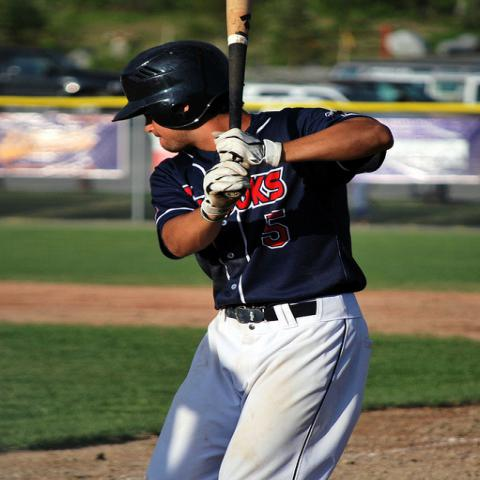car: (1, 56, 114, 93), (244, 79, 363, 102)
